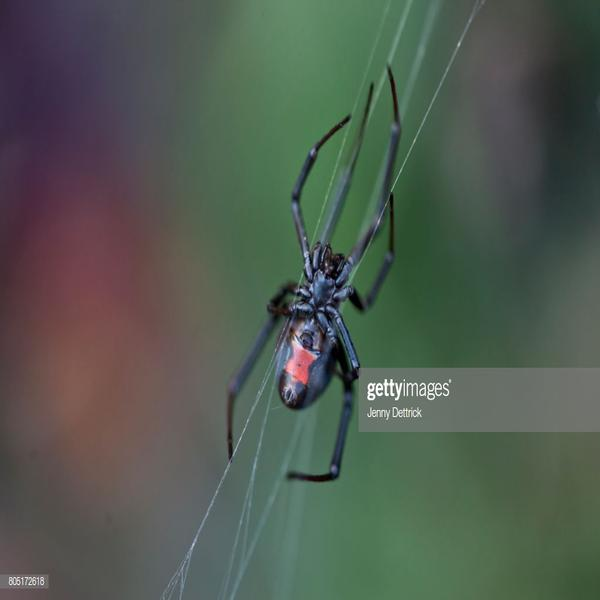Redback Spider: (225, 65, 404, 484)
